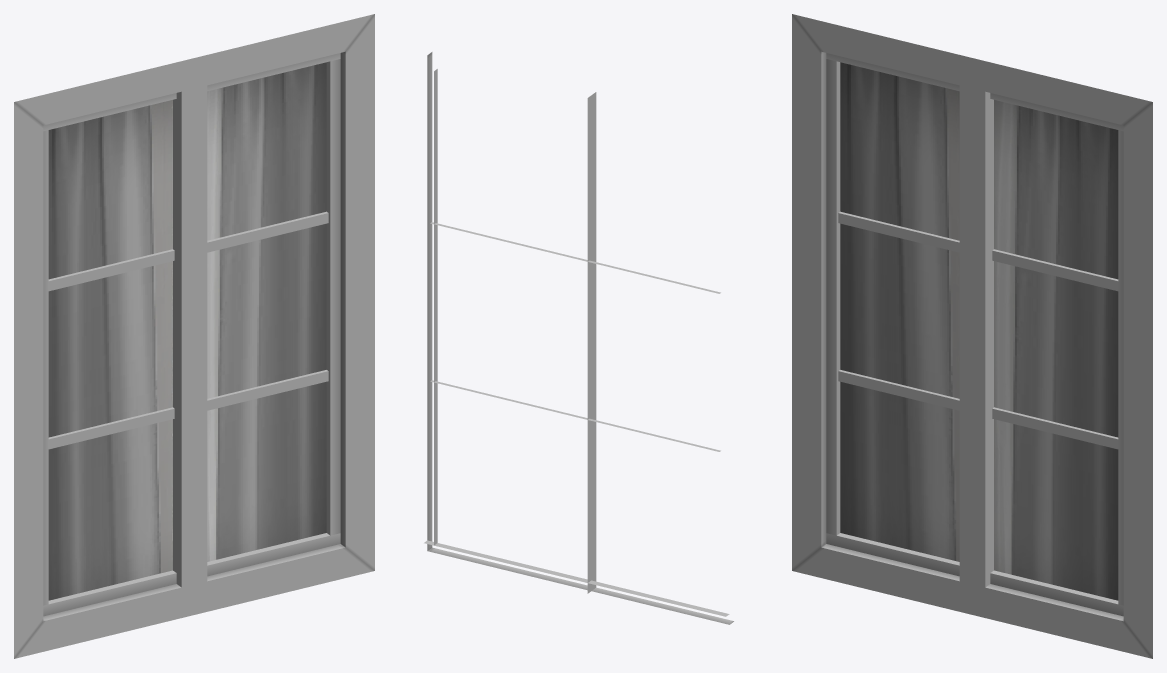
Rendered from italy_windowkit04_window01_a.gltf.
The picture shows the model from 3 angles, left to right: view 1: azimuth 30°, elevation 25°; view 2: azimuth 150°, elevation 25°; view 3: azimuth 330°, elevation 25°; orthographic projection.
Parts seen in each view (by area): view 1: italy_windowkit04_window01_a.vmdl_c.italy_windowkit04_window; view 2: italy_windowkit04_window01_a.vmdl_c.italy_windowkit04_window; view 3: italy_windowkit04_window01_a.vmdl_c.italy_windowkit04_window.
Part boxes in pixels (left/top/right/bottom): italy_windowkit04_window01_a.vmdl_c.italy_windowkit04_window: left=14, top=14, right=374, bottom=658; italy_windowkit04_window01_a.vmdl_c.italy_windowkit04_window: left=424, top=52, right=733, bottom=624; italy_windowkit04_window01_a.vmdl_c.italy_windowkit04_window: left=792, top=14, right=1152, bottom=658.
Size of the model in its own units: 1.07 by 1.57 by 0.0444.
